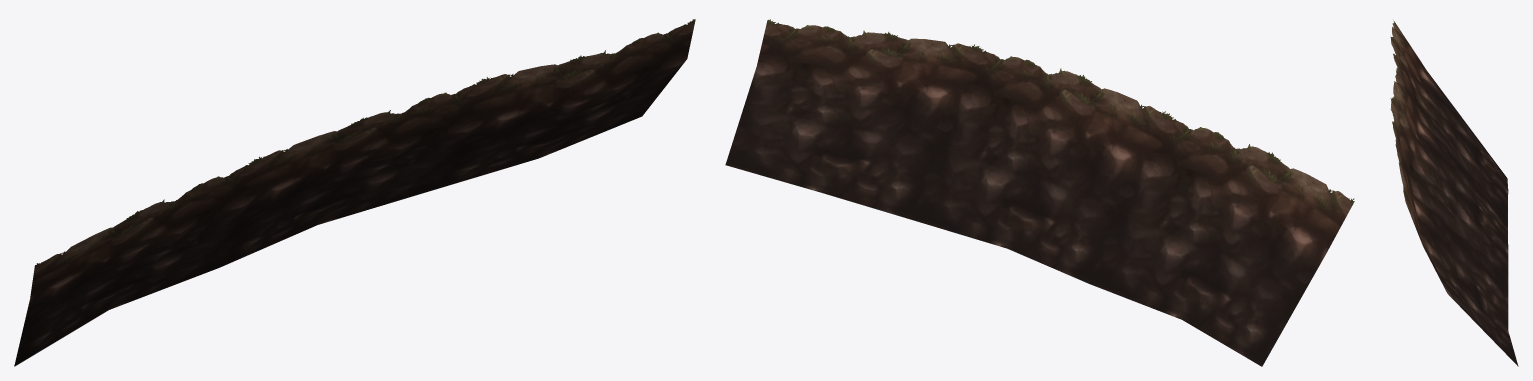
File: Dark Forest Cliff Side.FBX
The picture shows the model from 3 angles, left to right: view 1: azimuth 30°, elevation 25°; view 2: azimuth 150°, elevation 25°; view 3: azimuth 270°, elevation 25°; orthographic projection. The views are drawn at different scales.
Visible parts, largest first — view 1: Cliff; view 2: Cliff; view 3: Cliff.
Boxes of the visible parts, box(x1,y1,x2,y2) form: Cliff: box(14, 19, 695, 366); Cliff: box(725, 19, 1354, 366); Cliff: box(1390, 21, 1518, 366).
Size of the model in its own units: 3782 by 727 by 1284.
